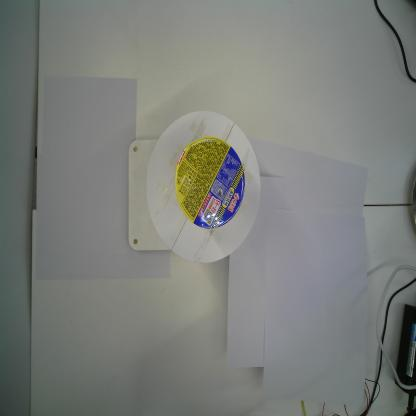Instant Noodles: (176, 136, 247, 230)
